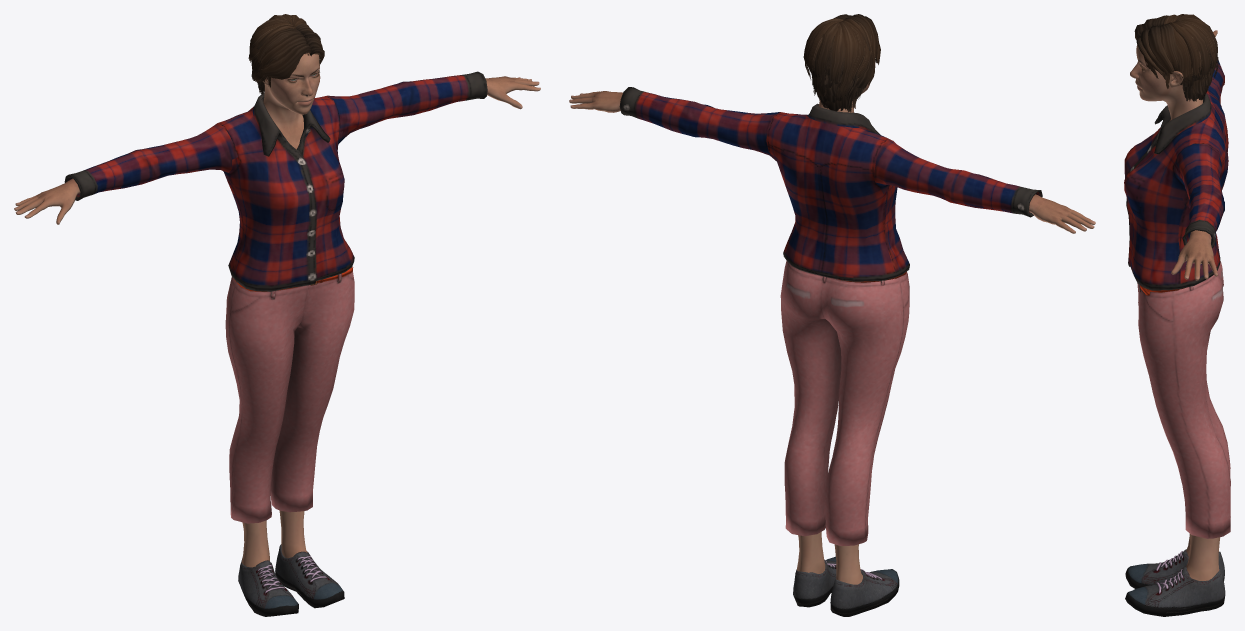
File: Gloria.obj
The picture shows the model from 3 angles, left to right: view 1: azimuth 30°, elevation 25°; view 2: azimuth 150°, elevation 25°; view 3: azimuth 270°, elevation 25°; orthographic projection.
Visible parts, largest first — view 1: Tops, Bottoms, Body, Shoes, Hair; view 2: Tops, Bottoms, Hair, Body, Shoes; view 3: Bottoms, Tops, Hair, Body, Shoes.
Boxes of the visible parts, x1,y1,x2,y2 form: Tops: (64,71,487,291); Bottoms: (225,266,354,523); Body: (14,35,540,567); Shoes: (238,544,344,616); Hair: (248,14,324,99); Tops: (619,87,1042,281); Bottoms: (780,260,909,545); Hair: (803,14,880,112); Body: (569,37,1095,584); Shoes: (793,556,899,616); Bottoms: (1137,261,1230,538); Tops: (1124,60,1228,290); Hair: (1134,14,1218,101); Body: (1130,30,1220,580); Shoes: (1125,549,1225,616).
Size of the model in its own units: 166 by 175 by 29.19.
1 material, 1 textured.
